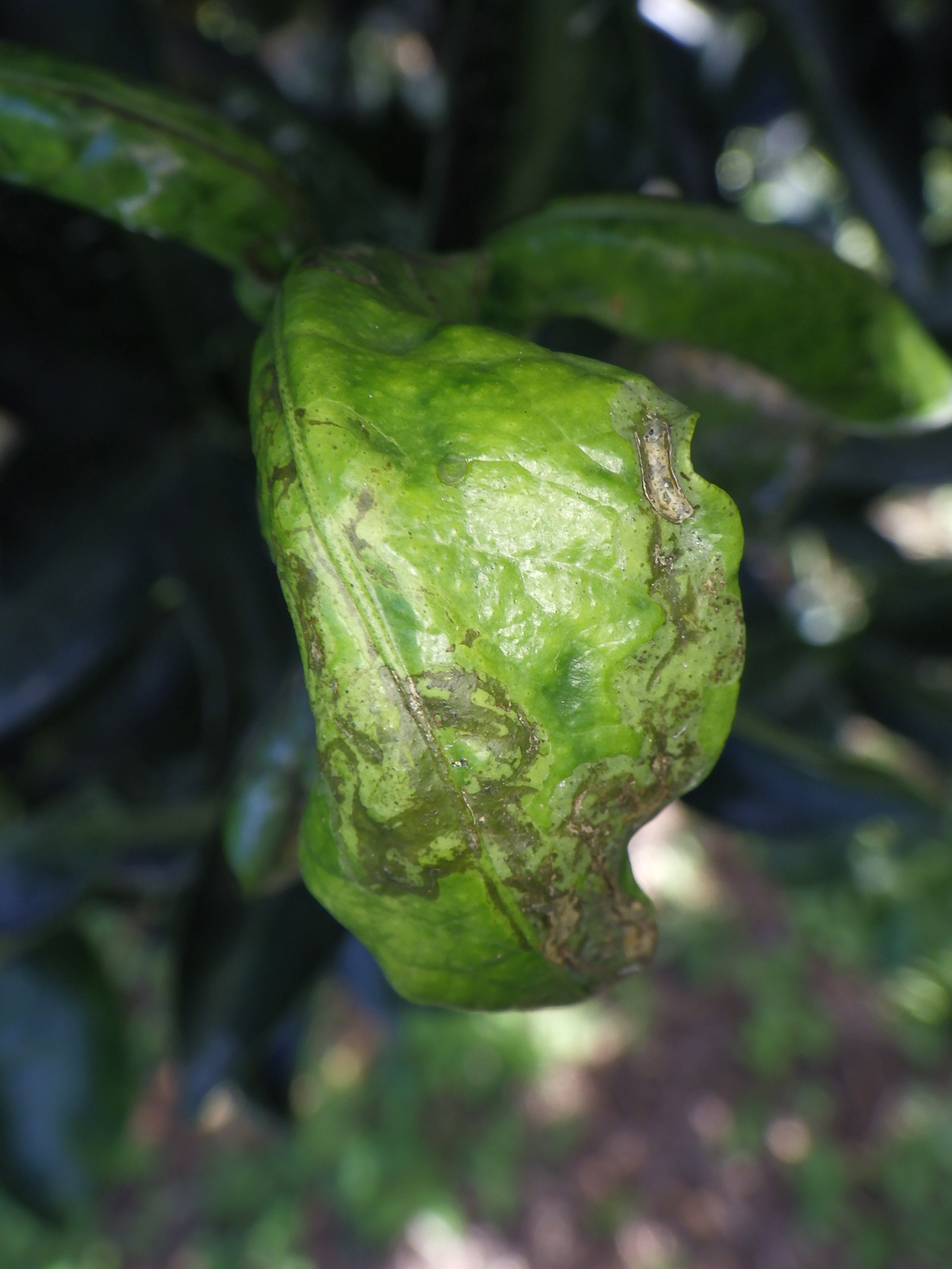Citrus_Leaf_Miner: (328, 668, 656, 988), (632, 527, 744, 808), (638, 421, 692, 522)
